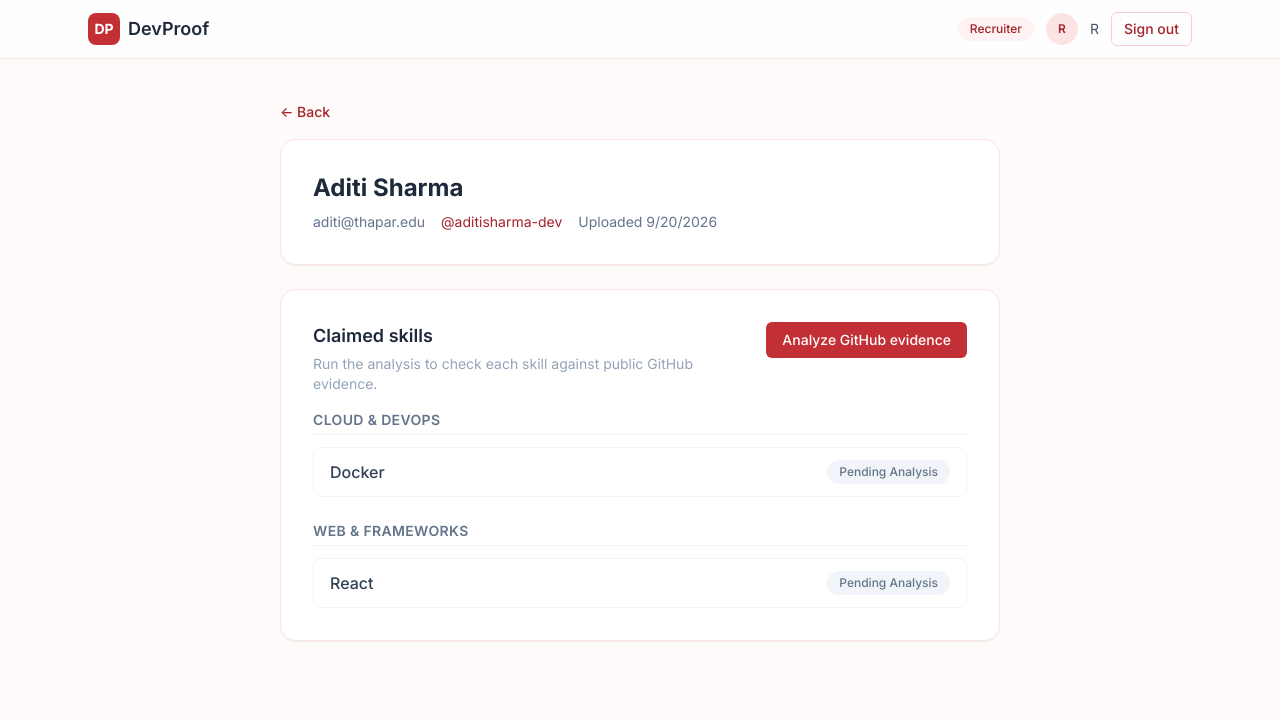
Test: CandidateDetail page › shows the API error when the analysis fails
The width and height of the screenshot is (1280, 720).
Click the button "Analyze GitHub evidence". click: (867, 340)
box: [766, 322, 967, 358]
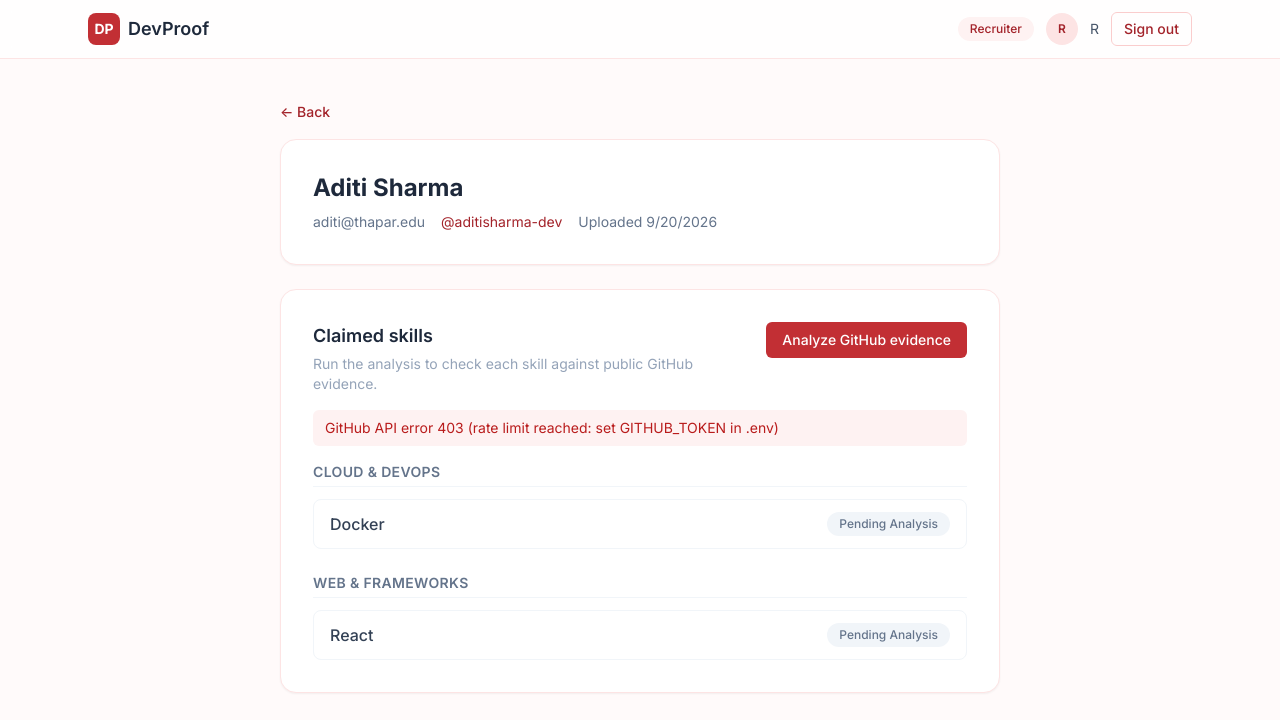
Now the text "rate limit reached" is shown, box [325, 419, 779, 436]
